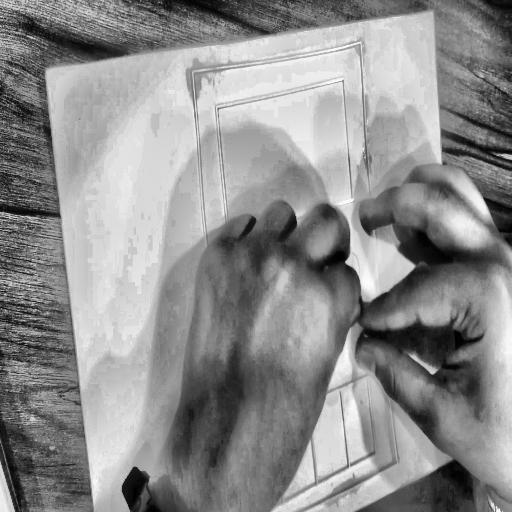bottom_right: (461, 447, 469, 460)
door: (185, 32, 408, 512)
top_left: (45, 69, 50, 78)
top_right: (431, 8, 435, 16)
